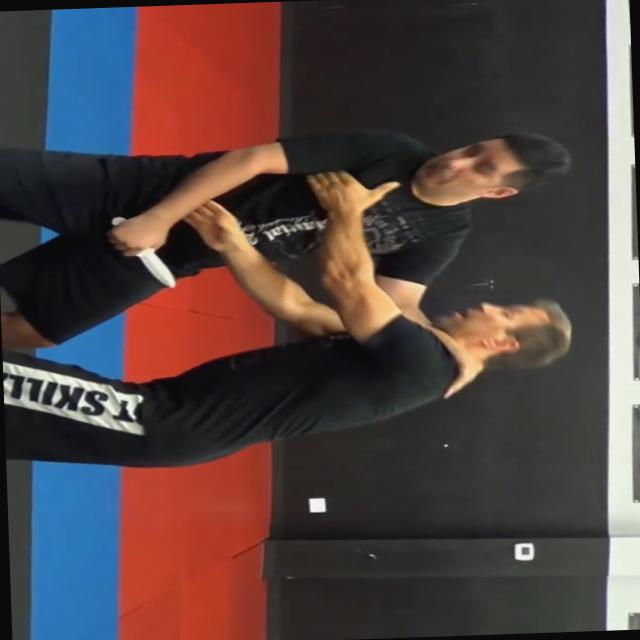knife: (102, 210, 183, 294)
